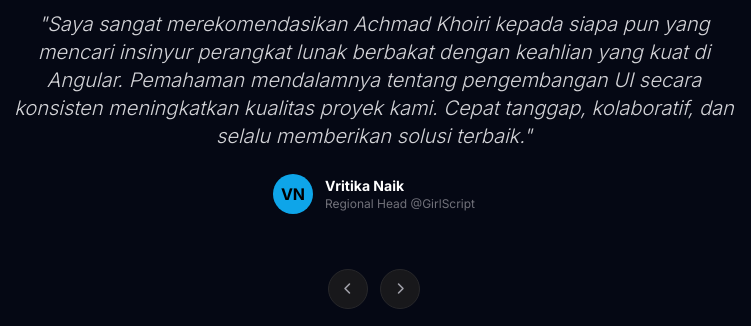
Test: Testimonials Feature Buttons (Prev & Next Slides) › navigates through testimonial slides using prev and next buttons
Expected: the button named "previous testimonial" is shown, [328,269,368,309]
Expected: the heading "Vritika Naik" is shown, [325,177,404,194]
# Click Next
Step 1. Click the button named "next testimonial" → click(400, 289), box [380,269,420,309]
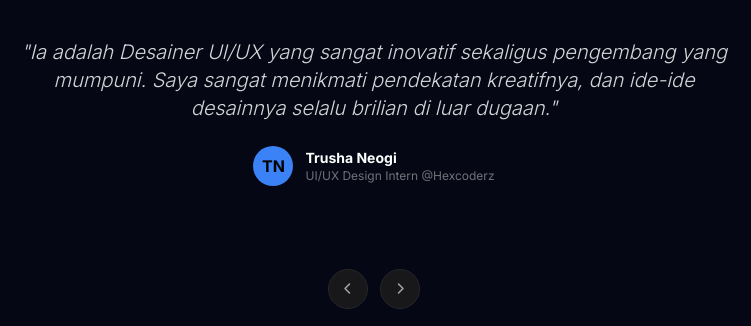
Now the heading "Trusha Neogi" is shown, box [306,149,397,166]
# Click Prev
Step 2. Click the button named "previous testimonial" → click(348, 289), box [328,269,368,309]
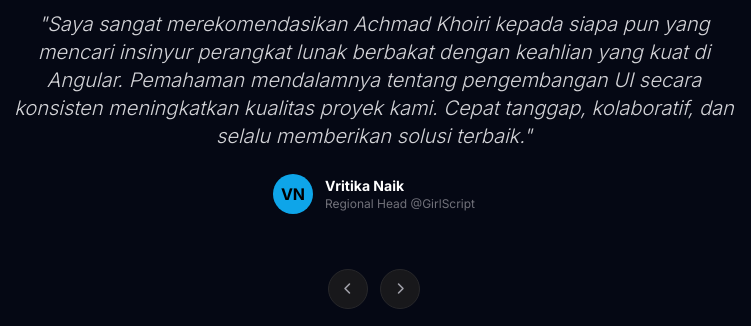
Now the heading "Vritika Naik" is shown, box [325,177,404,194]
